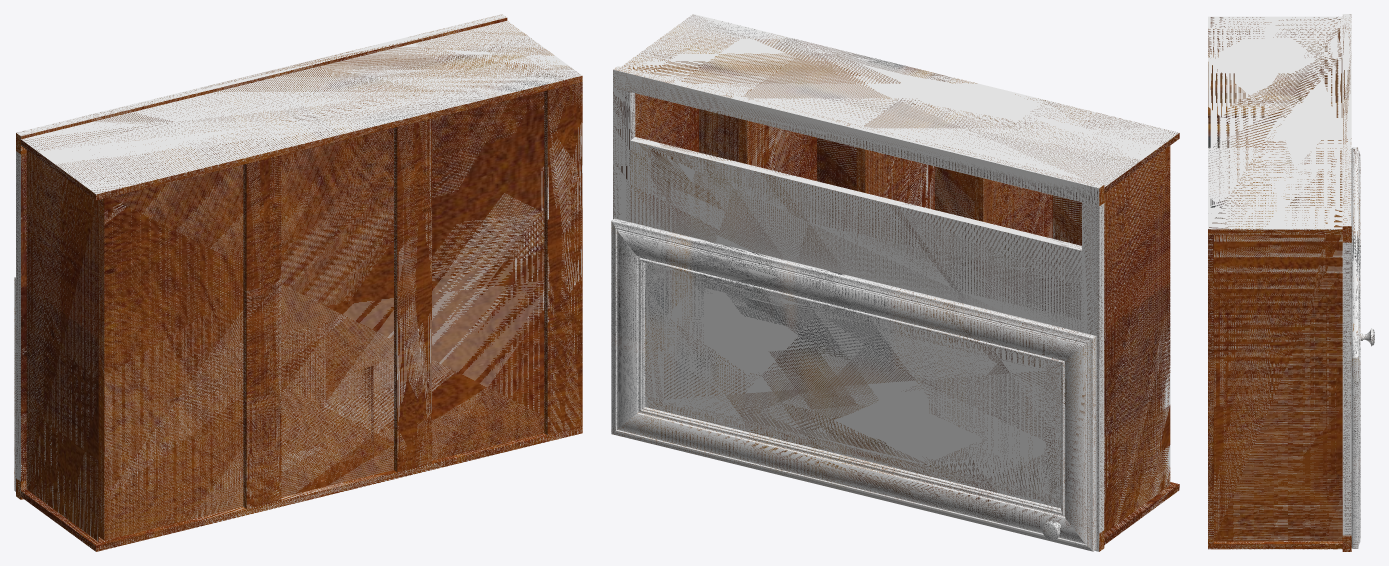
3 views of the same model, side by side, from view 1: azimuth 30°, elevation 25°; view 2: azimuth 150°, elevation 25°; view 3: azimuth 270°, elevation 25° (orthographic). The views are drawn at different scales.
Parts seen in each view (by area): view 1: mesh6_mesh6-geometry, mesh3_mesh3-geometry, mesh8_mesh8-geometry, mesh1_mesh1-geometry, mesh7_mesh7-geometry, mesh9_mesh9-geometry, mesh4_mesh4-geometry, mesh2_mesh2-geometry, mesh24_mesh24-geometry; view 2: mesh21_mesh21-geometry, mesh11_mesh11-geometry, mesh8_mesh8-geometry, mesh1_mesh1-geometry, mesh20_mesh20-geometry, mesh19_mesh19-geometry, mesh9_mesh9-geometry, mesh12_mesh12-geometry, mesh4_mesh4-geometry, mesh5_mesh5-geometry, mesh17_mesh17-geometry, mesh18_mesh18-geometry (+5 smaller); view 3: mesh2_mesh2-geometry, mesh8_mesh8-geometry, mesh4_mesh4-geometry, mesh9_mesh9-geometry, mesh3_mesh3-geometry, mesh20_mesh20-geometry, mesh7_mesh7-geometry, mesh17_mesh17-geometry, mesh14_mesh14-geometry, mesh13_mesh13-geometry, mesh15_mesh15-geometry.
Boxes of the visible parts, x1,y1,x2,y2 form: mesh6_mesh6-geometry: (104,91,544,540); mesh3_mesh3-geometry: (243,82,582,508); mesh8_mesh8-geometry: (21,20,582,200); mesh1_mesh1-geometry: (26,150,98,541); mesh7_mesh7-geometry: (21,427,582,551); mesh9_mesh9-geometry: (16,14,507,154); mesh4_mesh4-geometry: (16,151,26,481); mesh2_mesh2-geometry: (98,198,104,540); mesh24_mesh24-geometry: (351,366,373,469); mesh21_mesh21-geometry: (663,278,1043,492); mesh11_mesh11-geometry: (630,137,1081,332); mesh8_mesh8-geometry: (621,14,1179,193); mesh1_mesh1-geometry: (635,93,1170,533); mesh20_mesh20-geometry: (661,231,1045,370); mesh19_mesh19-geometry: (661,400,1043,538); mesh9_mesh9-geometry: (613,66,1104,206); mesh12_mesh12-geometry: (738,118,1052,238); mesh4_mesh4-geometry: (613,88,1104,533); mesh5_mesh5-geometry: (699,109,1081,245); mesh17_mesh17-geometry: (611,266,663,399); mesh18_mesh18-geometry: (1044,370,1096,505); mesh2_mesh2-geometry: (1214,234,1342,541); mesh8_mesh8-geometry: (1208,16,1342,234); mesh4_mesh4-geometry: (1342,242,1351,535); mesh9_mesh9-geometry: (1342,14,1351,242); mesh3_mesh3-geometry: (1208,234,1213,543); mesh20_mesh20-geometry: (1351,169,1360,342); mesh7_mesh7-geometry: (1208,541,1342,549); mesh17_mesh17-geometry: (1351,395,1360,507); mesh14_mesh14-geometry: (1351,335,1360,398); mesh13_mesh13-geometry: (1351,505,1360,548); mesh15_mesh15-geometry: (1351,147,1360,176).
Size of the model in its own units: 0.7856 by 0.5611 by 0.2607.
